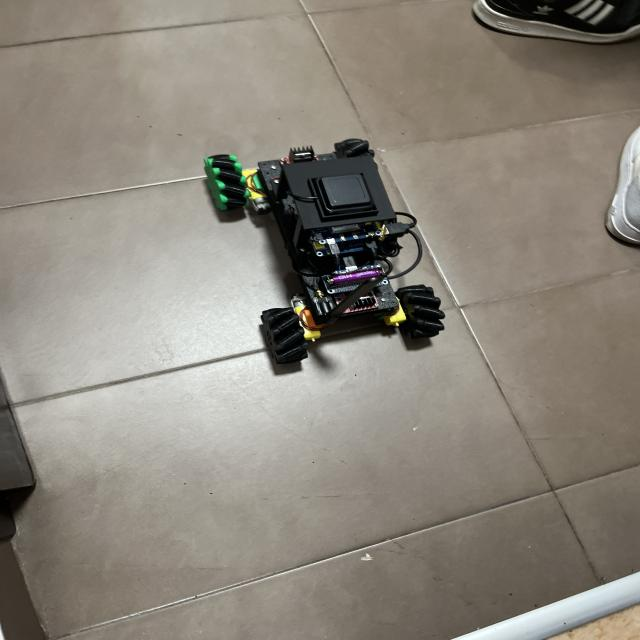robot: (205, 139, 445, 363)
